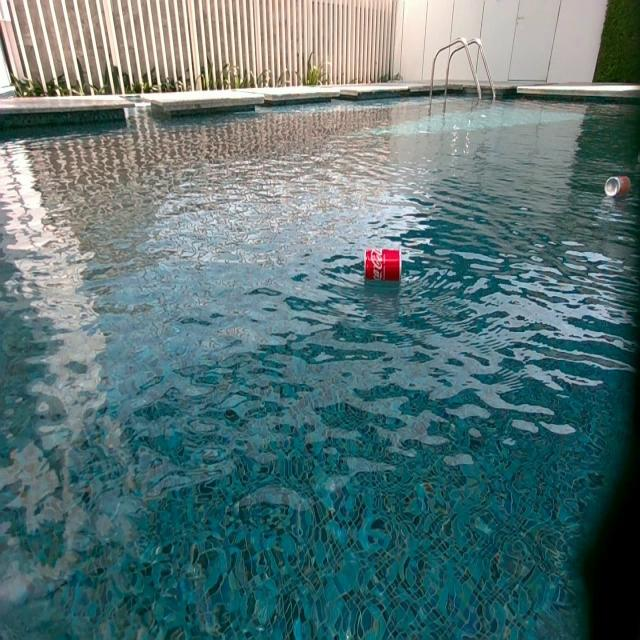Cans: (366, 249, 401, 283), (605, 175, 629, 198)
